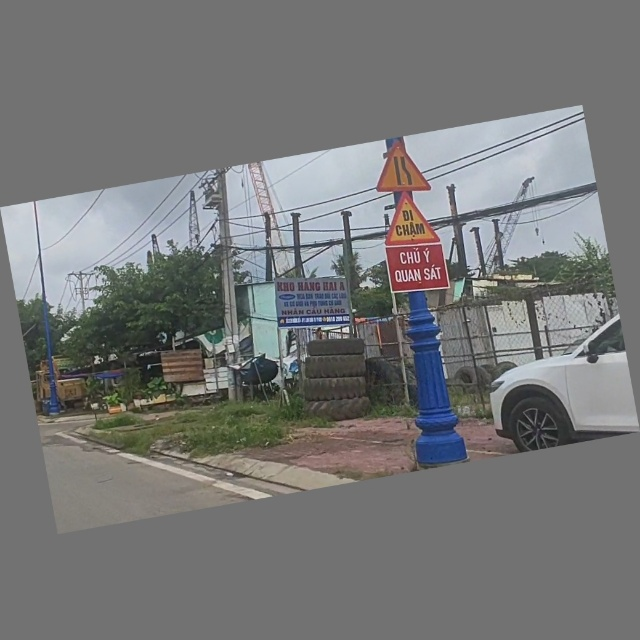W.203c: (369, 136, 433, 199)
W.245a: (378, 189, 443, 252)
